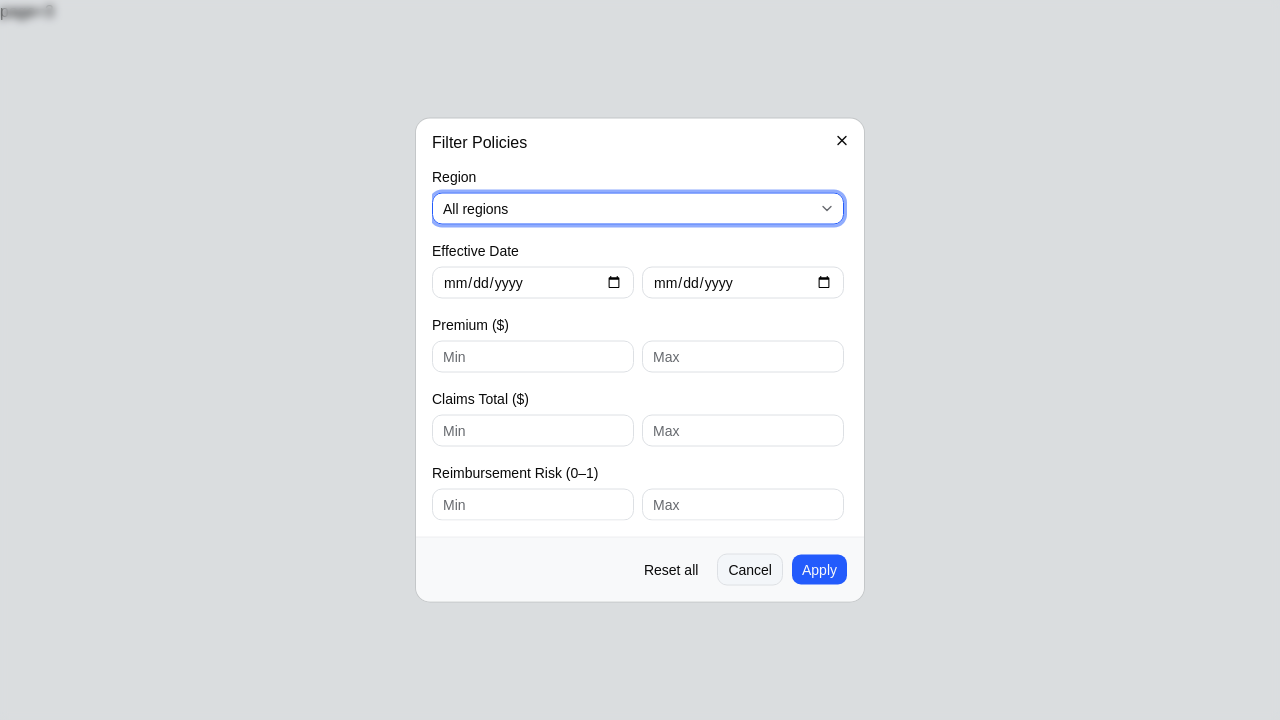
Test: FilterModal › applies filter params and resets page to 1 on Apply
In the number field named "premium minimum": {"x": 533, "y": 356} [432,340,634,372], type "5000"
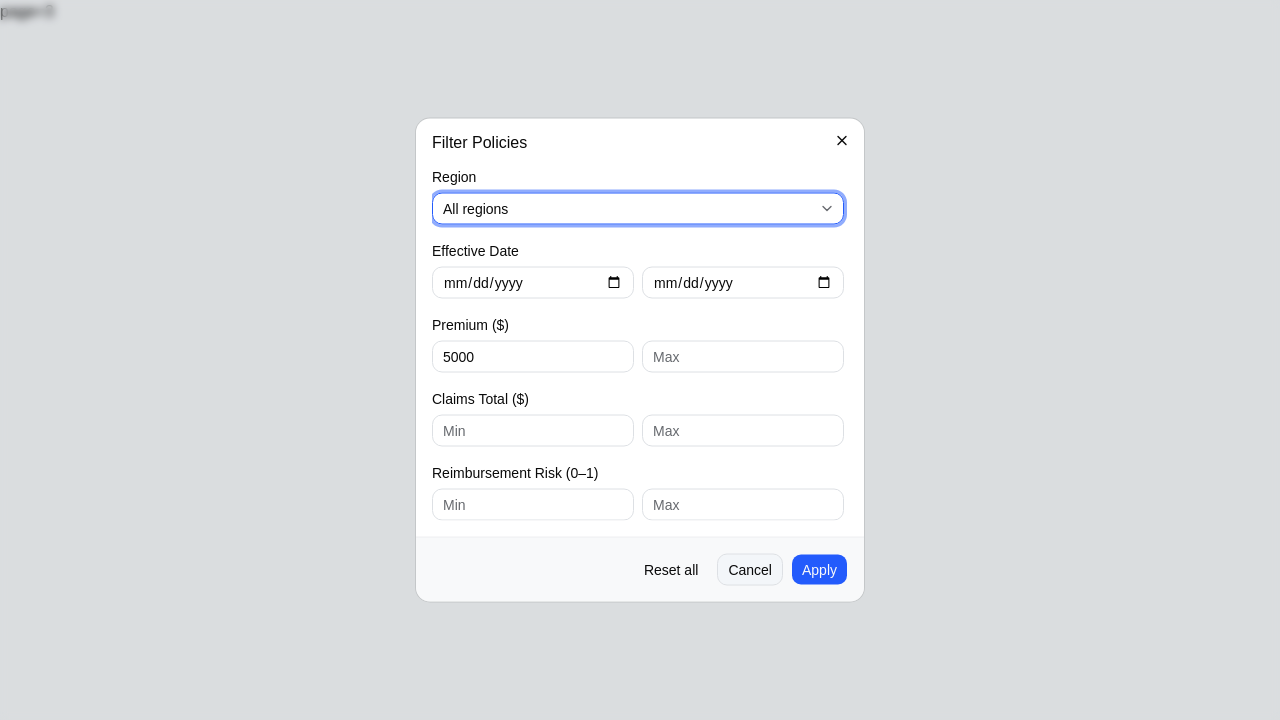
Click the button "Apply": {"x": 820, "y": 570} [791,554,848,586]
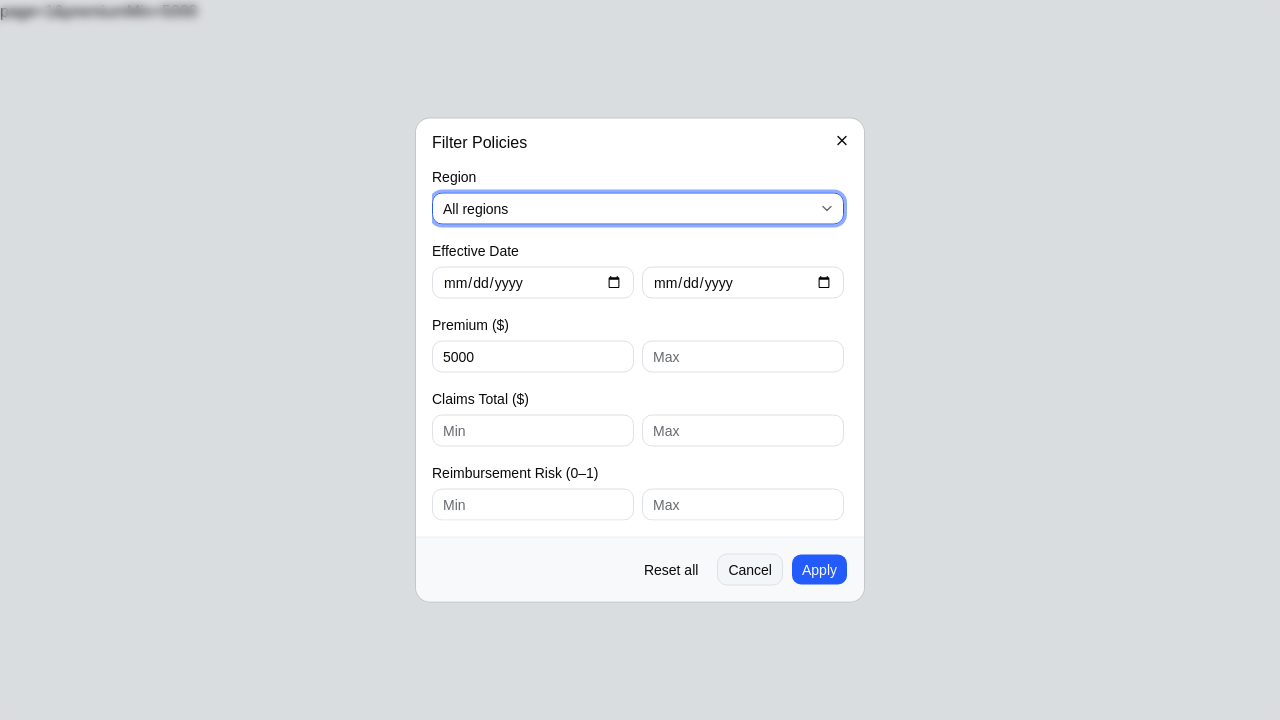
Now the text with test id "params" shows "premiumMin=5000", box [0,3,198,20]
Now the text with test id "params" shows "page=1", box [0,3,198,20]
